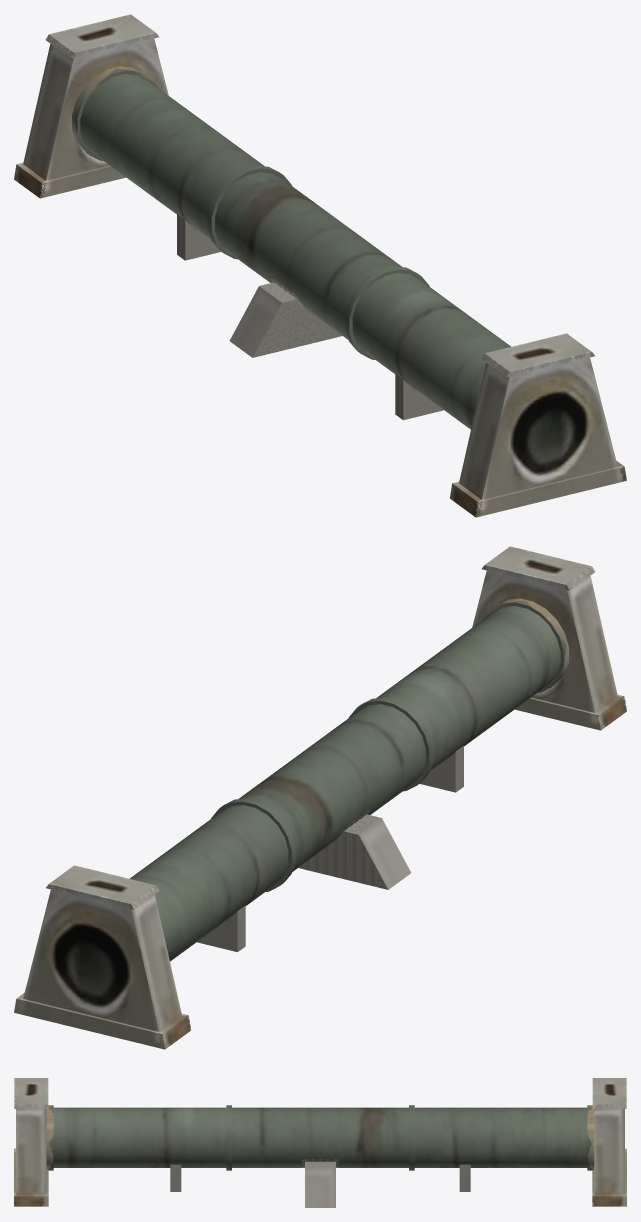
Rendered from straightpipe2_cad.glb.
3 views of the same model, one above another, from view 1: azimuth 30°, elevation 25°; view 2: azimuth 150°, elevation 25°; view 3: azimuth 270°, elevation 25° (orthographic). The views are drawn at different scales.
Parts seen in each view (by area): view 1: Straight2; view 2: Straight2; view 3: Straight2.
Part boxes in pixels (x1=…): Straight2: x1=14, y1=14, x2=626, y2=517; Straight2: x1=14, y1=546, x2=626, y2=1049; Straight2: x1=14, y1=1078, x2=626, y2=1207.
Bounding box in the file's own units: 3.41 × 2.81 × 17.16.
1 material, 1 textured.
